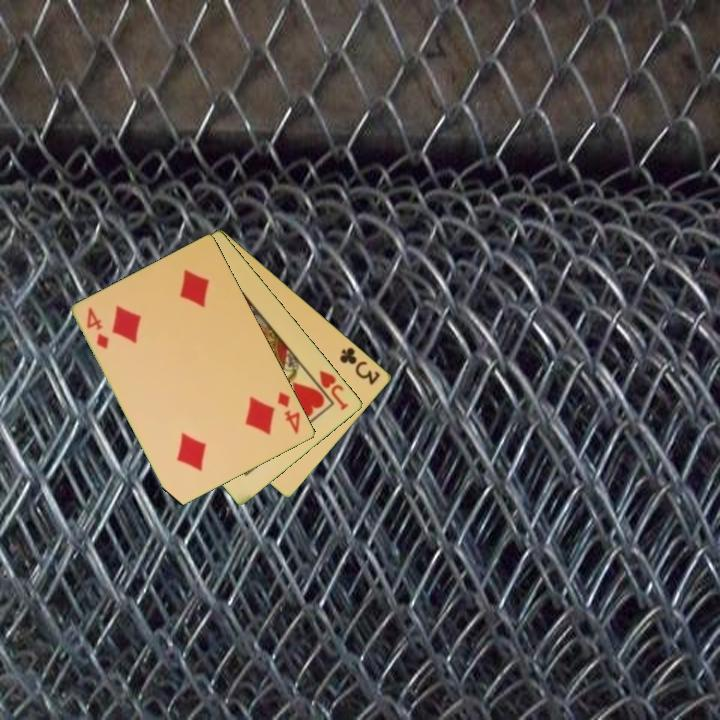3c: (336, 343, 384, 388)
4d: (274, 388, 303, 437), (83, 304, 112, 352)
Jh: (306, 367, 351, 414)
